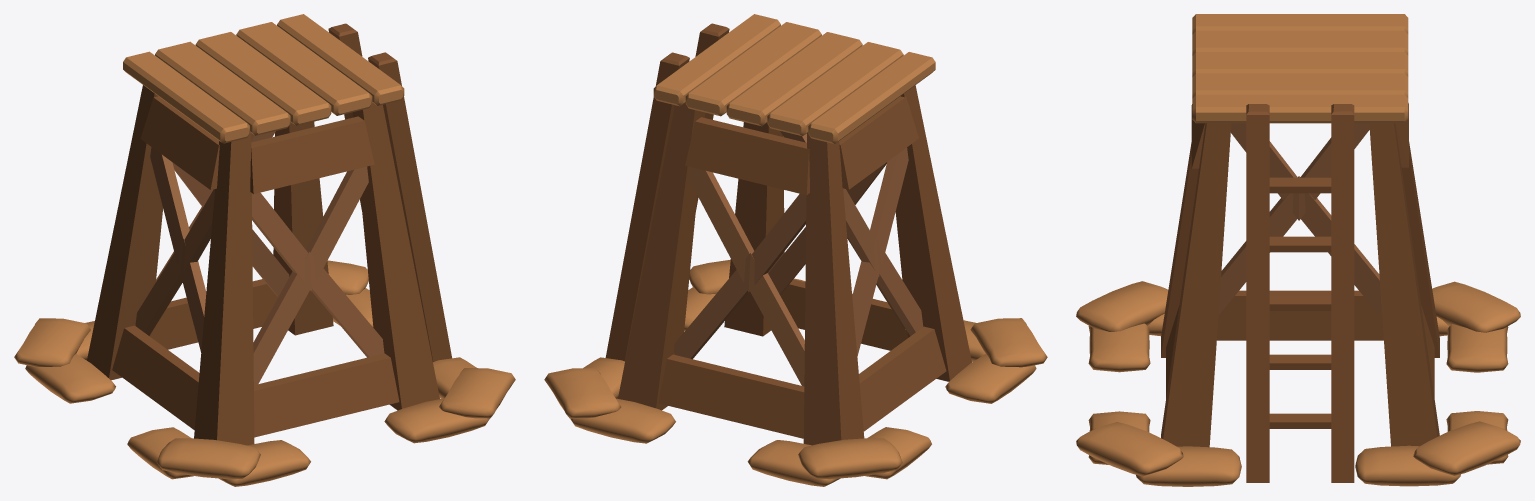
File: Watch_Tower_level_01.fbx
The picture shows the model from 3 angles, left to right: view 1: azimuth 30°, elevation 25°; view 2: azimuth 150°, elevation 25°; view 3: azimuth 270°, elevation 25°; orthographic projection. The views are drawn at different scales.
Parts seen in each view (by area): view 1: Wartch_Tower_01; view 2: Wartch_Tower_01; view 3: Wartch_Tower_01.
Boxes of the visible parts, <box> form: Wartch_Tower_01: <box>14,14,515,486</box>; Wartch_Tower_01: <box>544,14,1047,486</box>; Wartch_Tower_01: <box>1076,14,1520,486</box>.
Bounding box in the file's own units: 763 × 667 × 770.
Materials: 1 (1 with a texture image).
